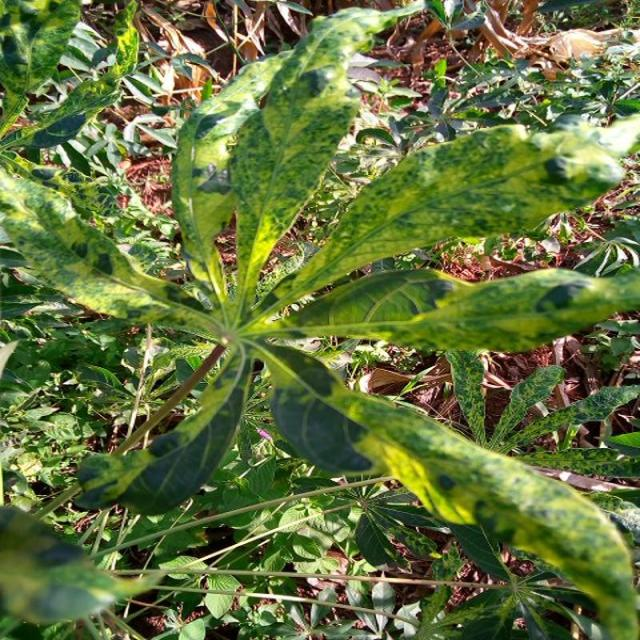cassava leaf: (0, 4, 638, 636), (261, 337, 638, 638)
